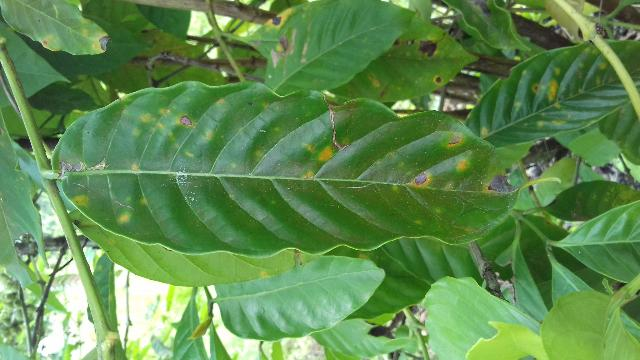rust_level_1: (44, 77, 568, 259)
